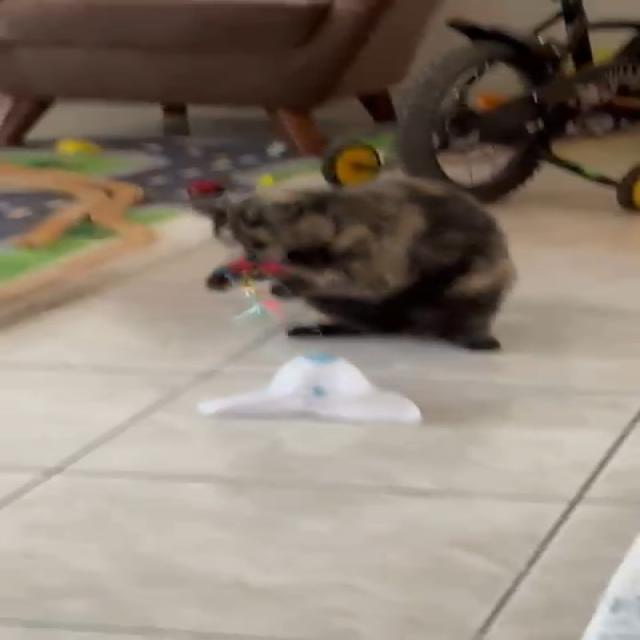authorized: (190, 171, 518, 351)
